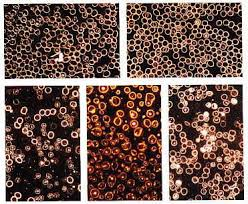Malaria: (163, 30, 224, 54), (71, 3, 117, 34), (127, 46, 156, 76), (126, 20, 160, 43), (158, 55, 177, 77), (126, 2, 144, 19), (3, 35, 16, 56), (3, 57, 12, 78), (11, 116, 24, 129), (18, 104, 30, 115), (57, 105, 69, 116), (58, 119, 71, 128), (189, 175, 201, 184), (202, 152, 215, 160), (32, 112, 42, 122), (46, 130, 56, 140), (61, 85, 71, 95), (181, 104, 191, 114), (180, 185, 189, 195), (65, 175, 74, 184), (211, 177, 220, 186), (215, 137, 223, 147), (48, 107, 57, 115), (37, 109, 47, 116), (15, 155, 23, 163), (6, 180, 14, 188), (70, 129, 78, 137), (60, 139, 69, 146), (228, 129, 237, 136), (202, 166, 211, 173), (178, 90, 186, 97), (70, 91, 79, 97), (186, 139, 193, 146), (211, 111, 220, 116), (179, 131, 186, 137), (170, 150, 176, 156)
